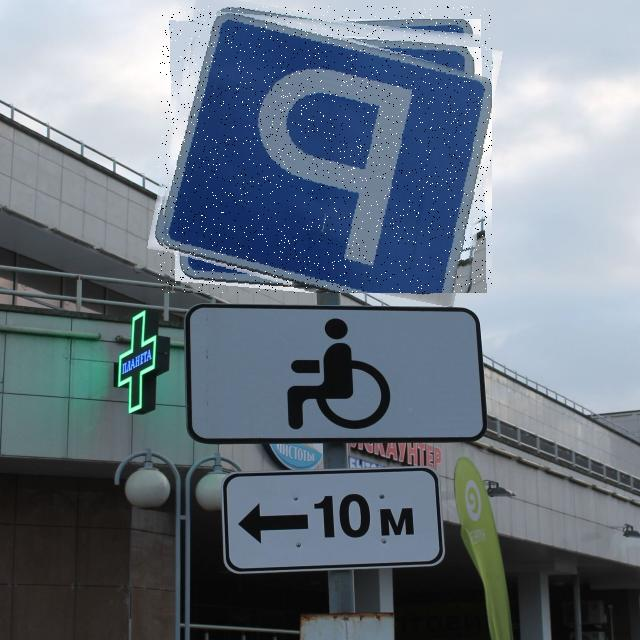parking: (158, 6, 492, 293)
